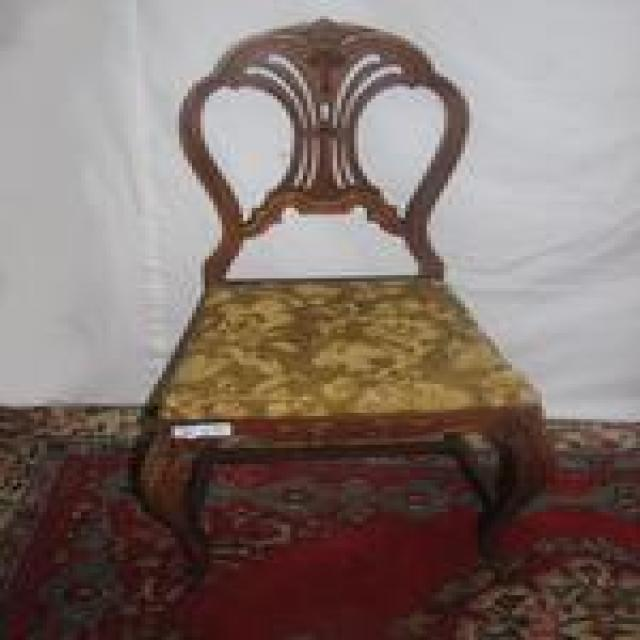chair: (128, 13, 550, 566)
